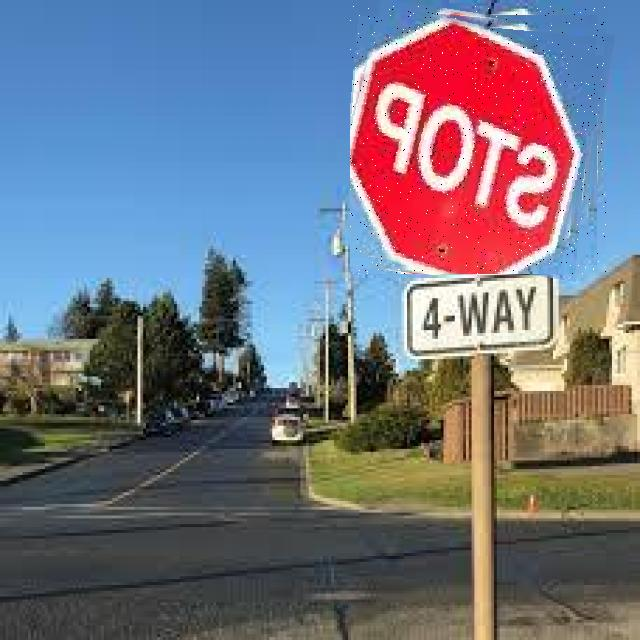stop: (350, 6, 606, 274)
